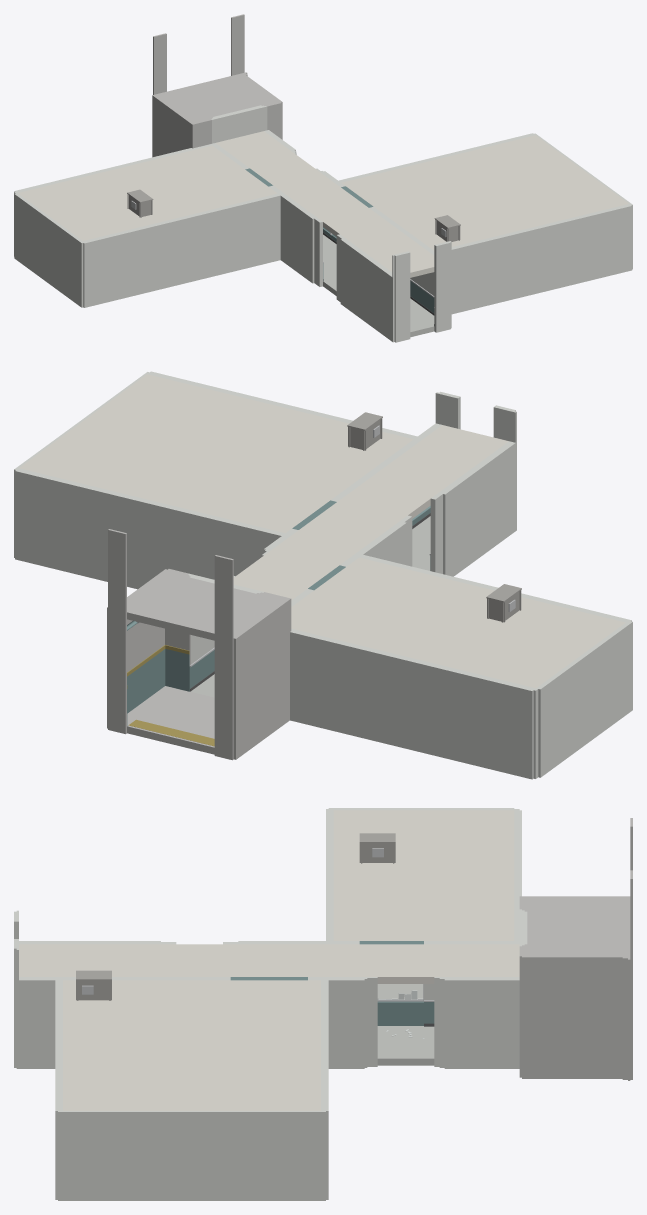
Rendered from area_b_research.glb.
3 renders of one model, top to bottom at view 1: azimuth 30°, elevation 25°; view 2: azimuth 150°, elevation 25°; view 3: azimuth 270°, elevation 25°, orthographic. The views are drawn at different scales.
Parts seen in each view (by area): view 1: area_b_research_structure-col, area_b_research_detail; view 2: area_b_research_structure-col, area_b_research_detail; view 3: area_b_research_structure-col, area_b_research_detail.
Part boxes in pixels (x1,y1,x2,y2): area_b_research_structure-col: (14,14,632,342); area_b_research_detail: (127,189,460,325); area_b_research_structure-col: (14,371,632,779); area_b_research_detail: (127,412,521,746); area_b_research_structure-col: (14,808,632,1200); area_b_research_detail: (76,833,434,1038).
Size of what is drawn, in the model's own units: 27.9 by 8.6 by 24.
